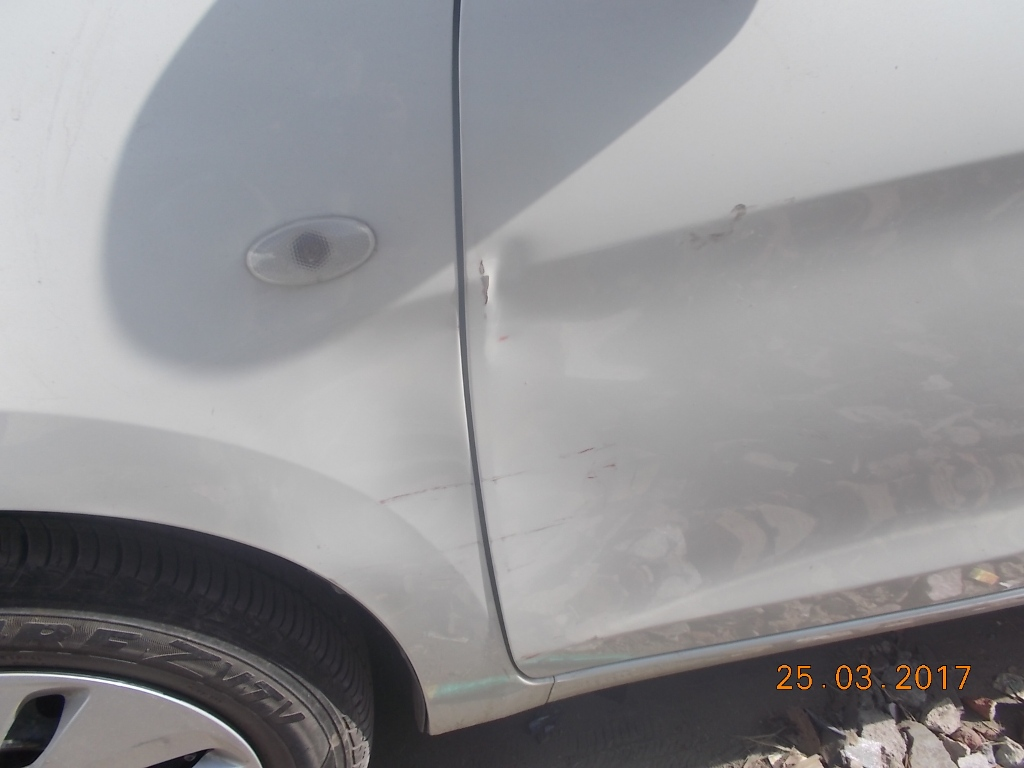Scratch_or_spot: (473, 253, 504, 326)
